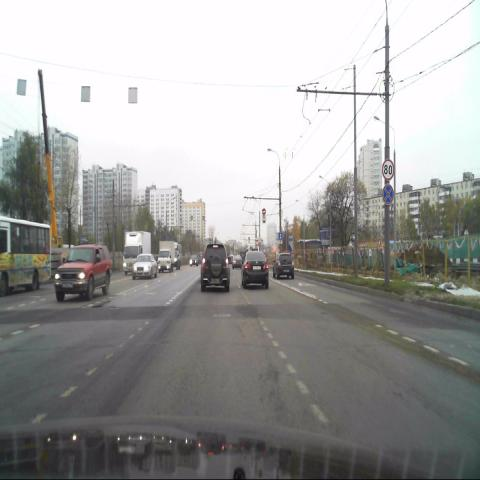3_27: (382, 184, 394, 205)
